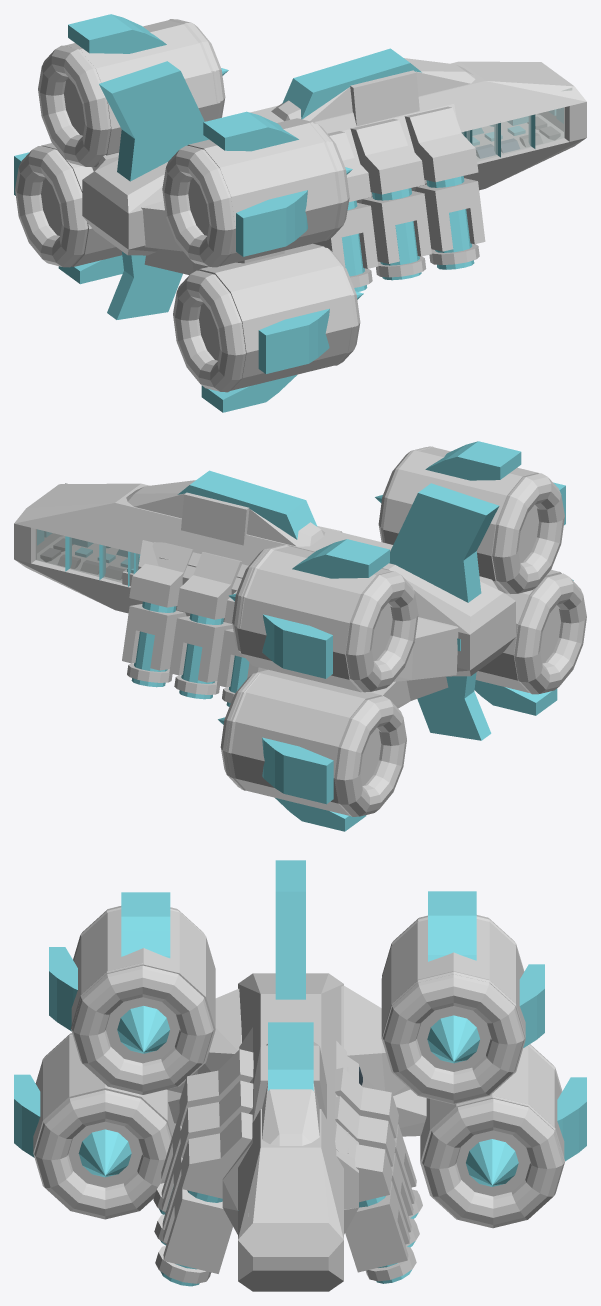
The model's file is spaceship-concept.glb.
3 renders of one model, top to bottom at view 1: azimuth 30°, elevation 25°; view 2: azimuth 150°, elevation 25°; view 3: azimuth 270°, elevation 25°, orthographic. The views are drawn at different scales.
Parts seen in each view (by area): view 1: group154117972, group2073127886, group897540716, group1335561389; view 2: group154117972, group2073127886, group897540716, group1335561389; view 3: group154117972, group2073127886.
Part boxes in pixels (x1,y1,x2,y2): group154117972: (15,19,586,392); group2073127886: (14,14,535,412); group897540716: (461,88,572,161); group1335561389: (472,107,563,158); group154117972: (14,446,586,816); group2073127886: (65,441,573,831); group897540716: (36,483,139,582); group1335561389: (37,529,460,651); group154117972: (33,906,564,1291); group2073127886: (14,860,586,1286).
Bounding box in the file's own units: 0.81 × 0.45 × 0.7562.
